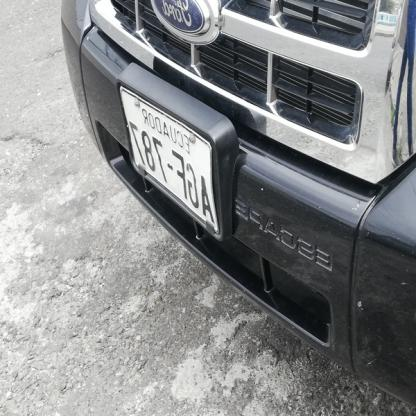Placa: (115, 94, 221, 229)
